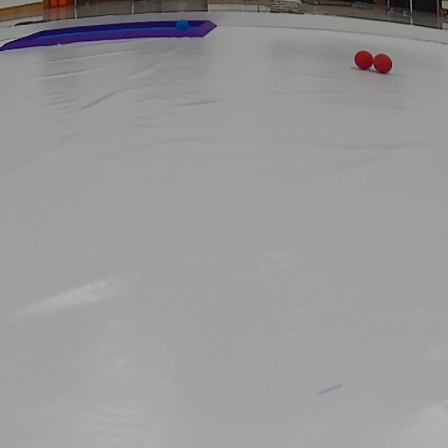blue: (178, 20, 190, 31)
blue_aim: (3, 20, 221, 47)
red: (375, 51, 399, 75), (350, 50, 375, 70)
